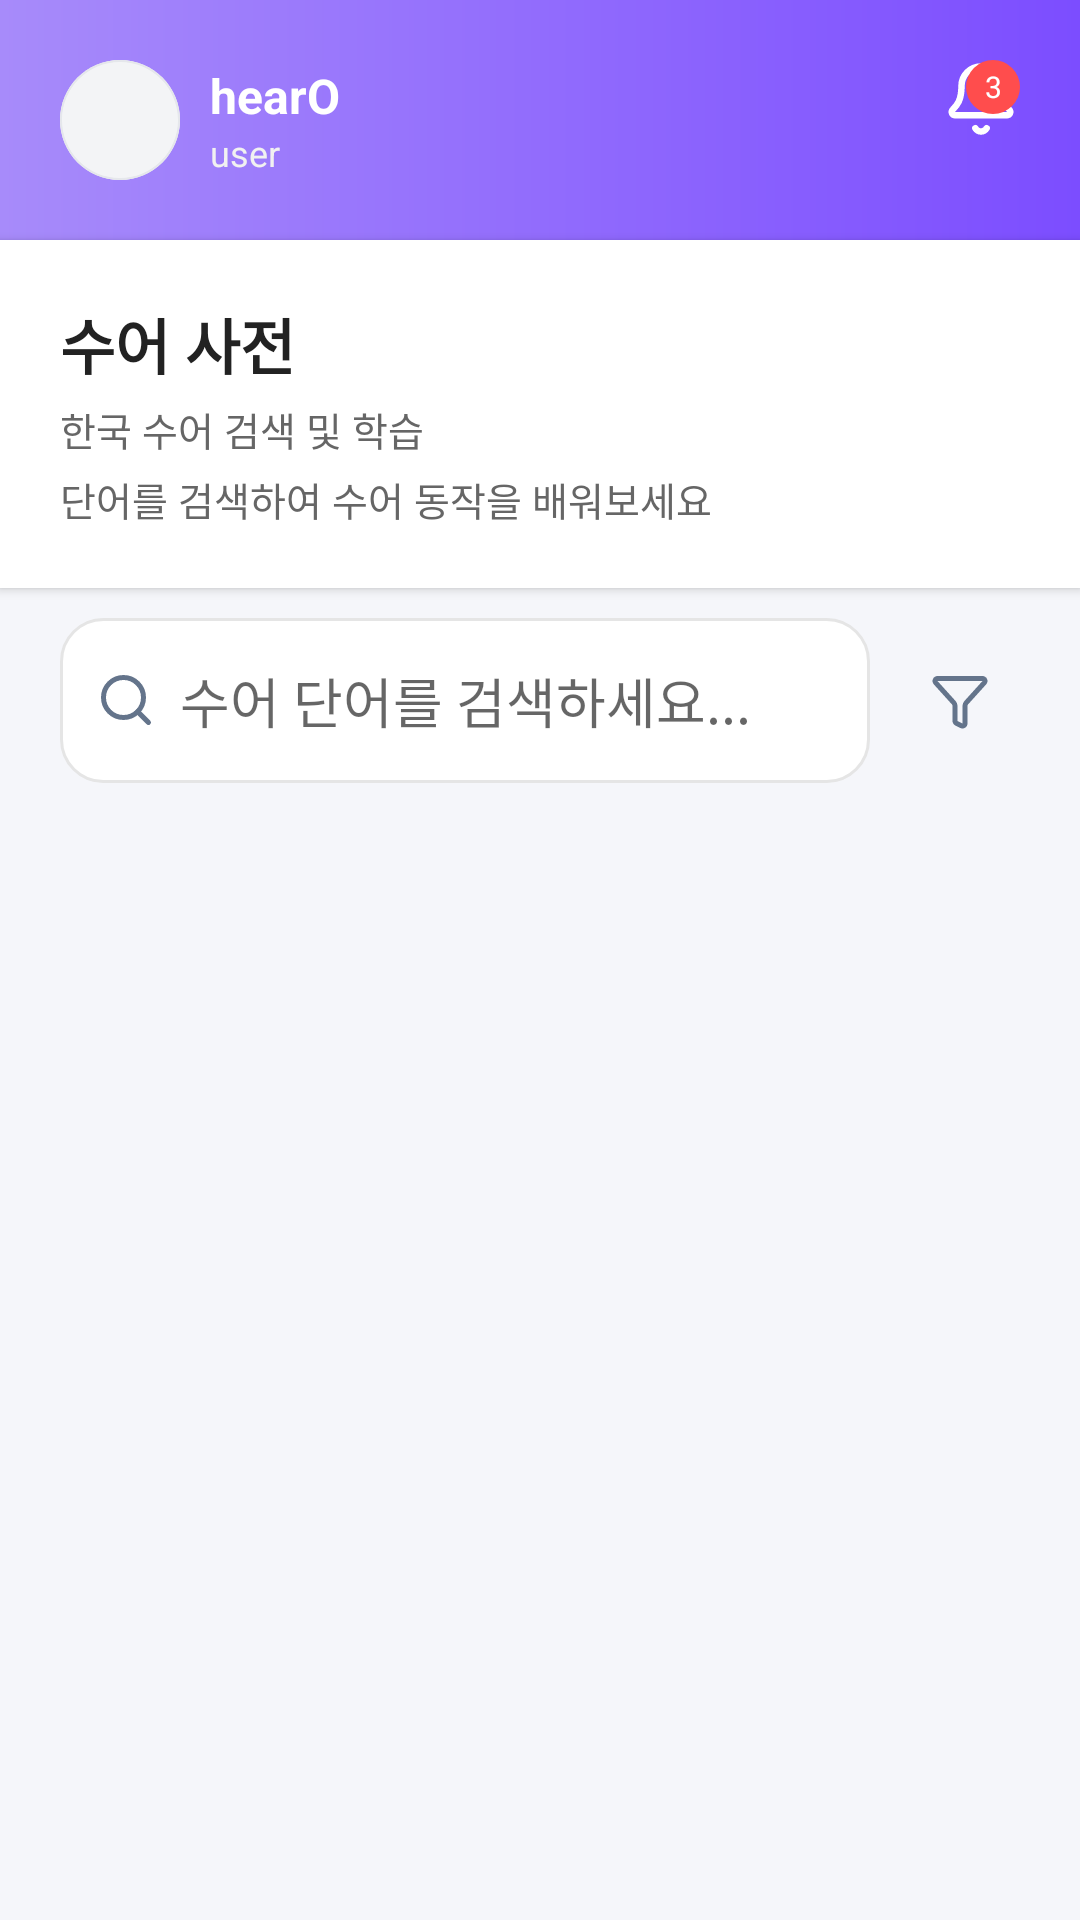

Point at icon controls on the screen. Image size 1080 x 1920, points as (x,y).
alarm: (984,97)
filter: (960,702)
search: (126,700)
